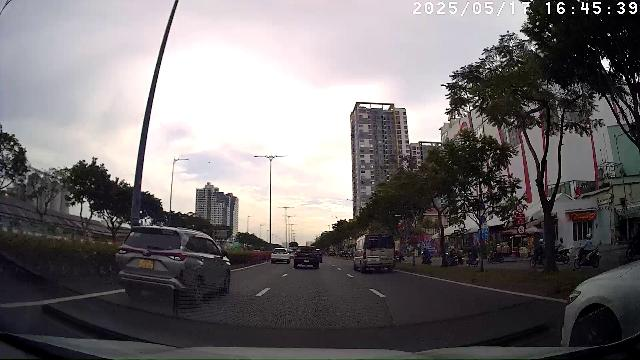127-toc-do-toi-da-50: (517, 226, 525, 234)
